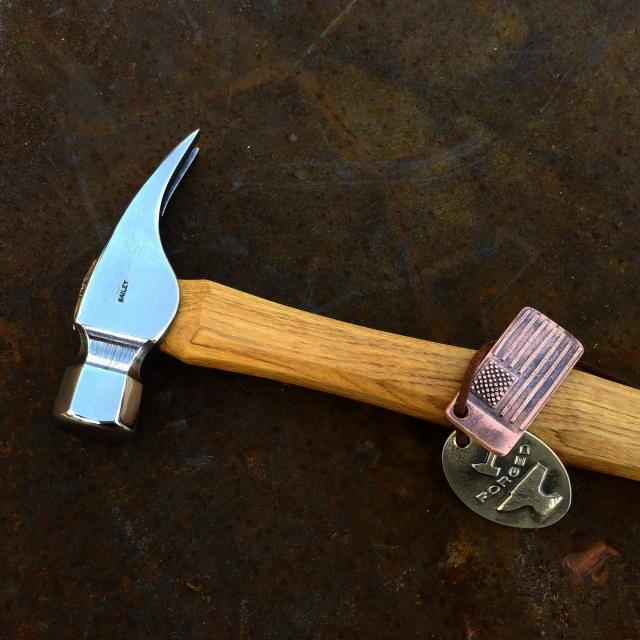hammer: (40, 120, 640, 494)
